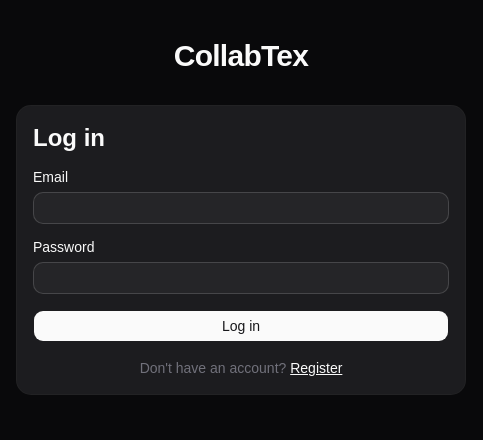
Test case: LoginPage › shows validation errors for empty fields on submit
Click the button "Log in": (241, 326) [33, 310, 449, 342]
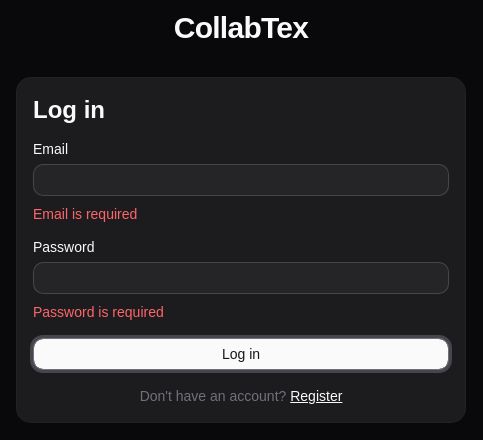
Check: the text "Email is required" is shown, box [33, 206, 137, 222]
Check: the text "Password is required" is shown, box [33, 304, 164, 320]
